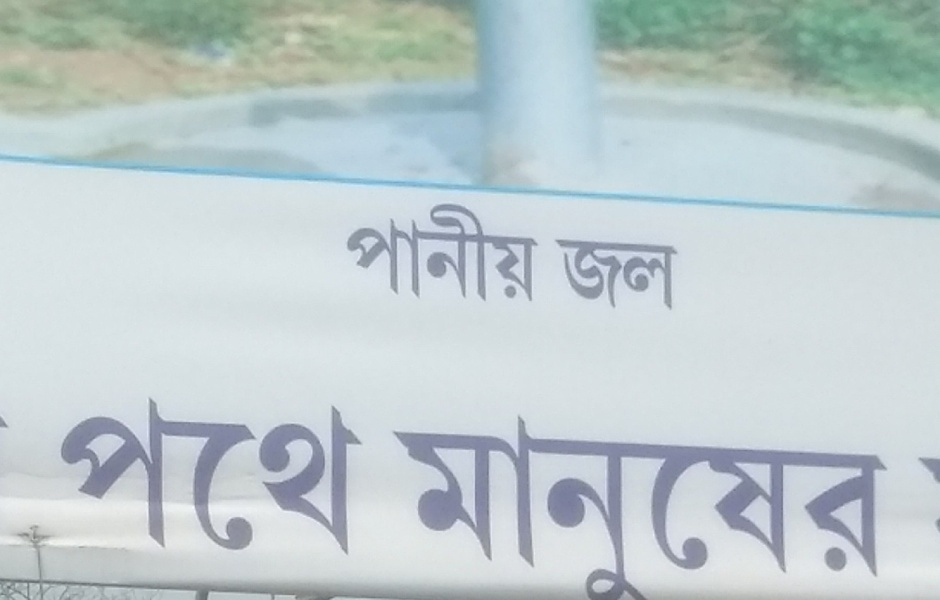text: (401, 407, 416, 598), (417, 407, 432, 598), (433, 407, 448, 598), (449, 407, 464, 598), (465, 407, 480, 598), (481, 407, 496, 598), (497, 407, 512, 598), (513, 407, 528, 598), (529, 407, 544, 598), (545, 407, 560, 598), (561, 407, 576, 598), (577, 407, 592, 598), (593, 407, 608, 598), (609, 407, 624, 598), (625, 407, 640, 598), (641, 407, 656, 598), (657, 407, 672, 598), (673, 407, 688, 598), (689, 407, 704, 598), (705, 407, 720, 598), (721, 407, 736, 598), (737, 407, 752, 598), (753, 407, 768, 598), (769, 407, 784, 598), (785, 407, 800, 598), (801, 407, 816, 598), (817, 407, 832, 598), (833, 407, 848, 598), (849, 407, 864, 598), (865, 407, 880, 598), (881, 407, 896, 598), (353, 393, 369, 561), (65, 393, 80, 561), (81, 393, 96, 561), (97, 393, 112, 561), (113, 393, 128, 561), (129, 393, 144, 561), (145, 393, 160, 561), (161, 393, 176, 561), (177, 393, 192, 561), (193, 393, 208, 561), (209, 393, 224, 561), (225, 393, 240, 561), (241, 393, 256, 561), (257, 393, 272, 561), (273, 393, 288, 561), (289, 393, 304, 561), (305, 393, 320, 561), (321, 393, 336, 561), (337, 393, 352, 561), (388, 407, 400, 598), (353, 196, 368, 308), (369, 196, 384, 308), (385, 196, 400, 308), (401, 196, 416, 308), (417, 196, 432, 308), (433, 196, 448, 308), (449, 196, 464, 308), (465, 196, 480, 308), (481, 196, 496, 308), (497, 196, 512, 308), (513, 196, 528, 308), (529, 196, 542, 308), (913, 453, 928, 541), (561, 231, 576, 311), (577, 231, 592, 311), (593, 231, 608, 311), (609, 231, 624, 311), (625, 231, 640, 311), (641, 231, 656, 311), (657, 231, 672, 311), (58, 393, 64, 561), (929, 453, 939, 541), (673, 231, 683, 311), (345, 196, 352, 308), (552, 231, 560, 311), (2, 406, 16, 445)
